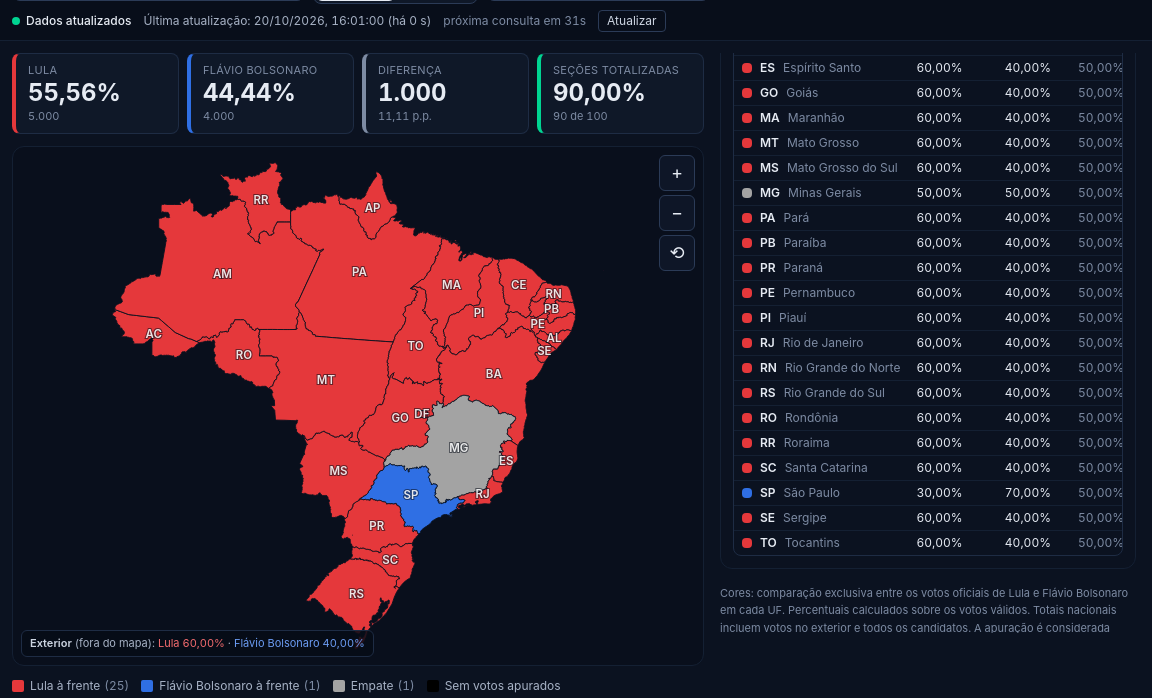
Test: Dashboard › desktop (1440 px) › seleciona estado pela lista acessível
(page scrolled)
Click the button with aria-label "Rio de Janeiro: Lula à frente".
click(821, 343)  # box [742, 335, 900, 351]
(page scrolled)
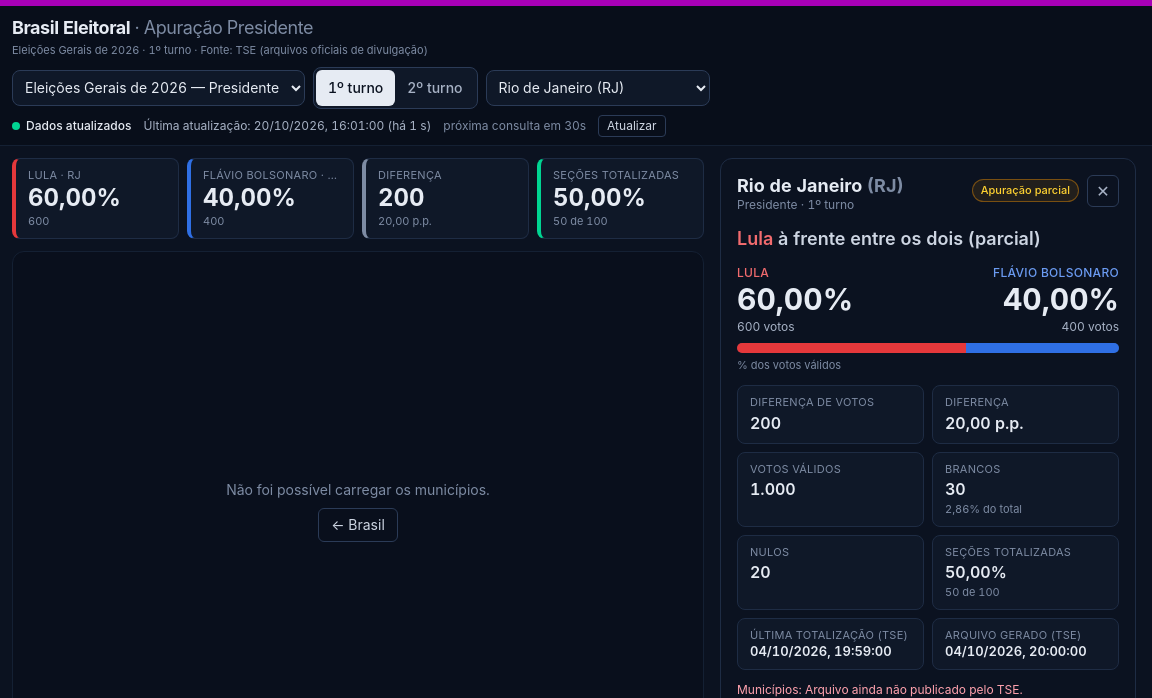
Expected: the heading "Rio de Janeiro (RJ)" is shown, [737, 174, 903, 197]
